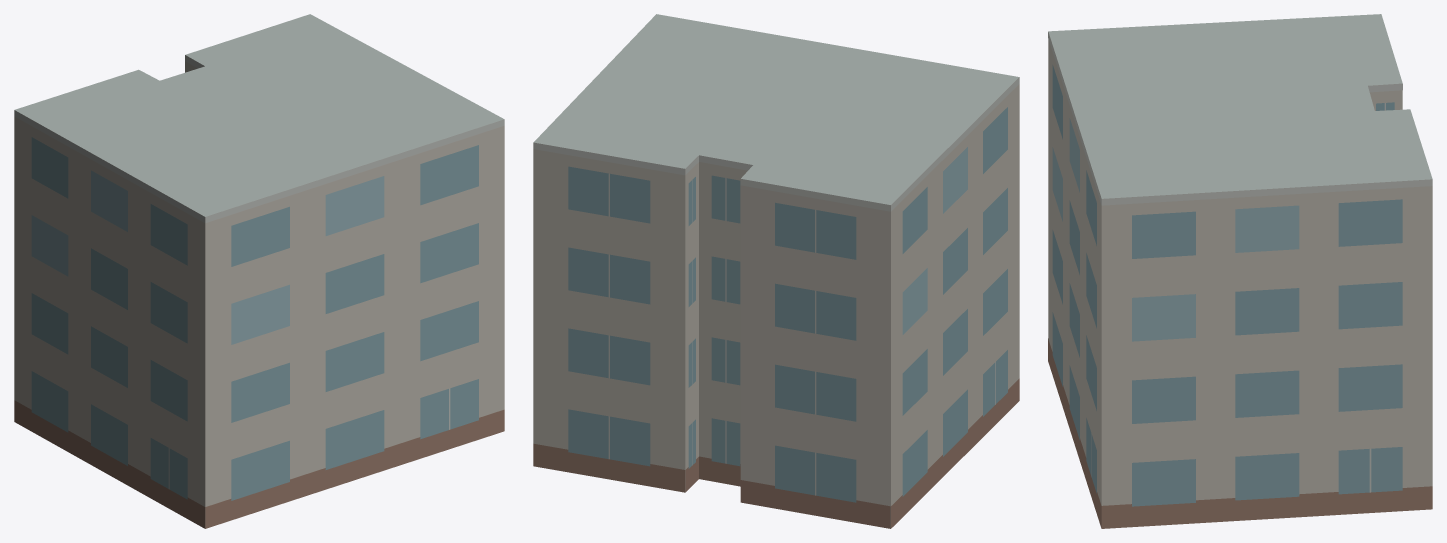
The model's file is survey-upis-32970995.glb.
The picture shows the model from 3 angles, left to right: view 1: azimuth 30°, elevation 25°; view 2: azimuth 150°, elevation 25°; view 3: azimuth 270°, elevation 25°; orthographic projection. The views are drawn at different scales.
Visible parts, largest first — view 1: survey-upis-32970995.tmp; view 2: survey-upis-32970995.tmp; view 3: survey-upis-32970995.tmp.
Boxes of the visible parts, box(x1,y1,x2,y2) form: survey-upis-32970995.tmp: box(14, 14, 504, 528); survey-upis-32970995.tmp: box(533, 14, 1019, 528); survey-upis-32970995.tmp: box(1048, 14, 1432, 528).
Size of the model in its own units: 14.37 by 11.95 by 12.63.
